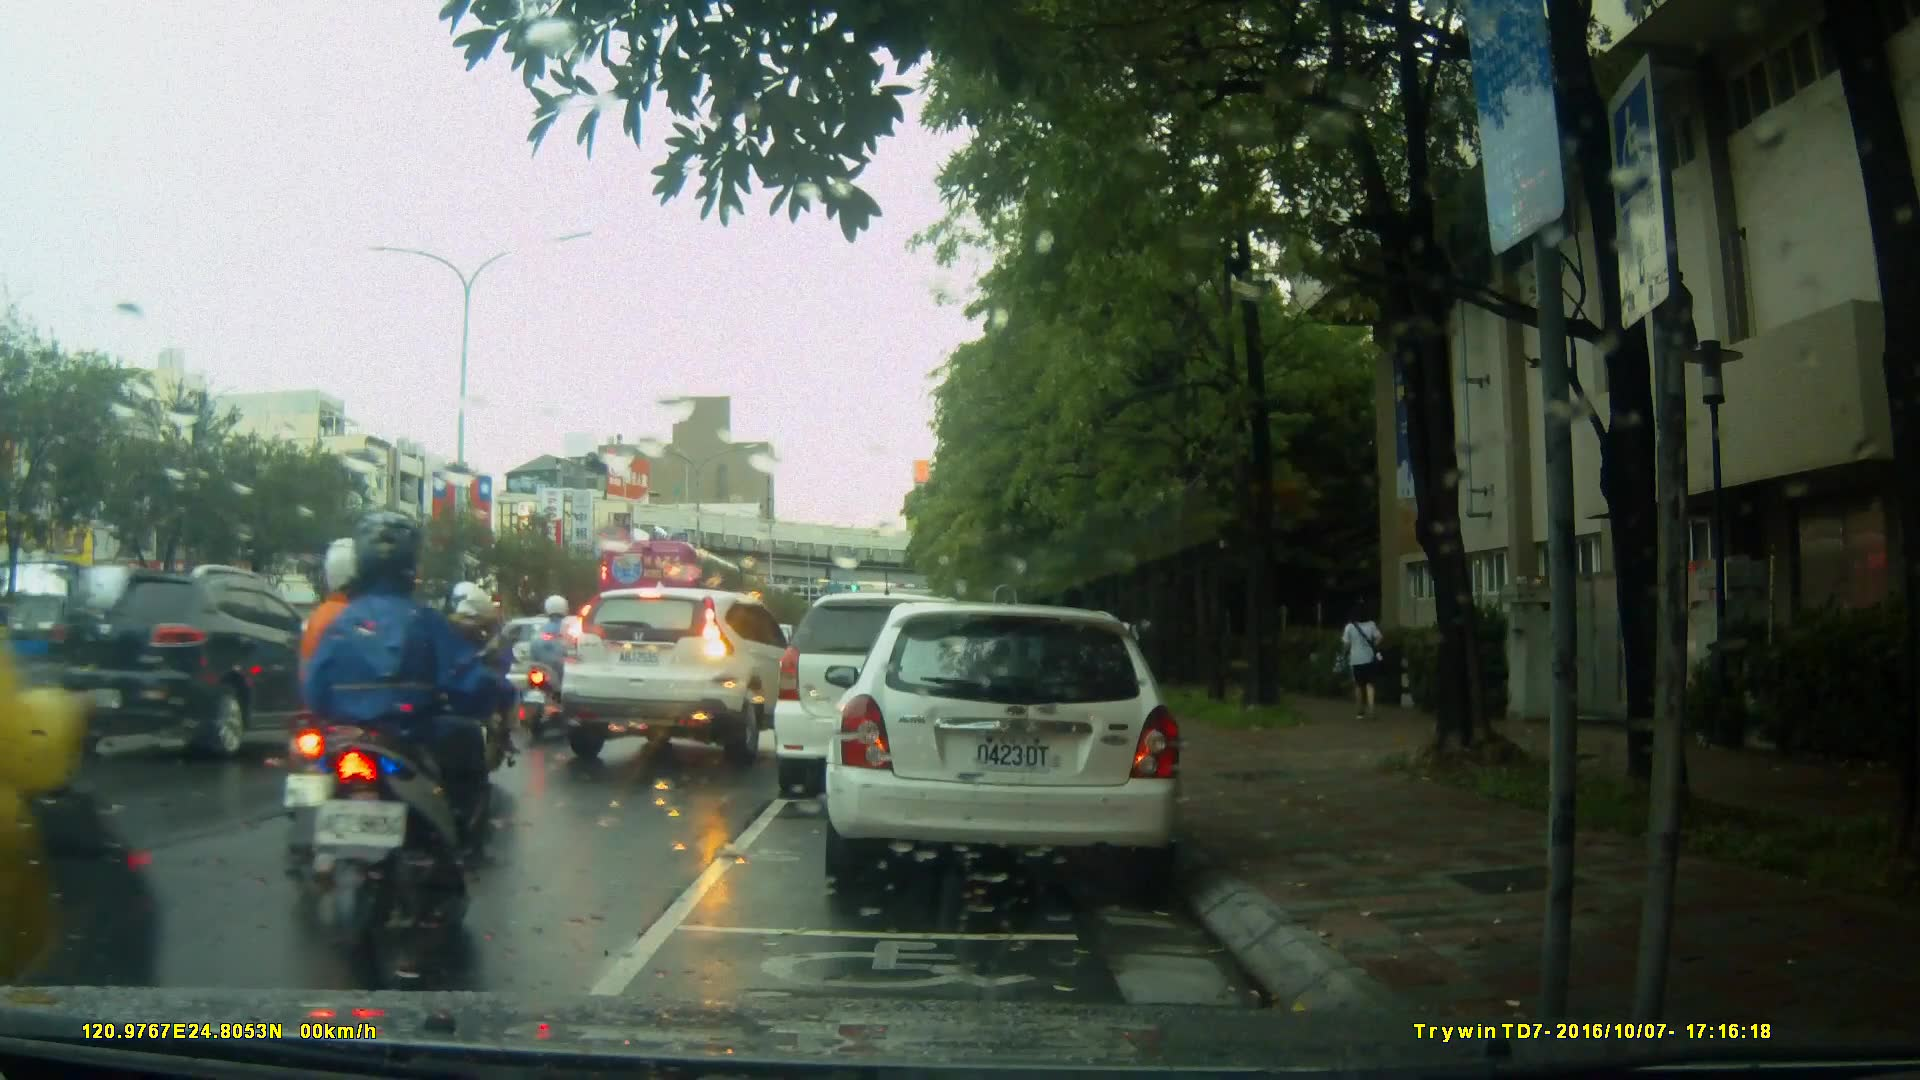pedestrian: (1329, 590, 1390, 735)
rider: (1, 432, 178, 1078), (315, 517, 499, 945), (289, 528, 430, 891), (431, 585, 522, 787), (514, 595, 585, 750)
vehicle: (835, 594, 1194, 898), (36, 560, 340, 765), (545, 584, 822, 773), (776, 590, 1026, 784), (596, 537, 746, 635)
